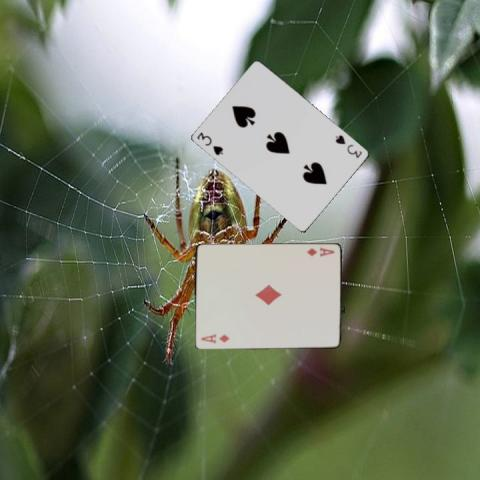3s: (194, 129, 225, 157), (333, 132, 364, 159)
Ad: (198, 331, 231, 345), (304, 245, 336, 258)
